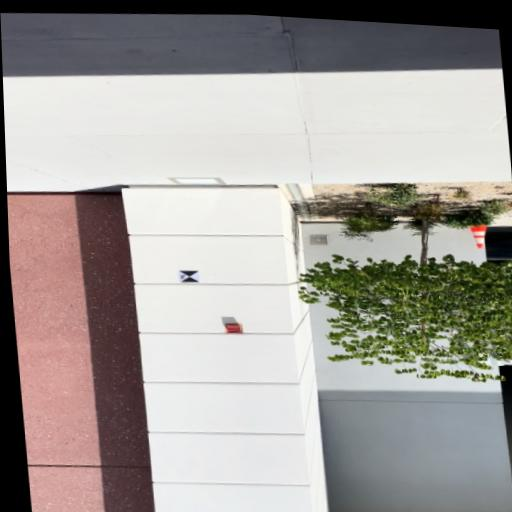target2: (178, 269, 201, 284)
